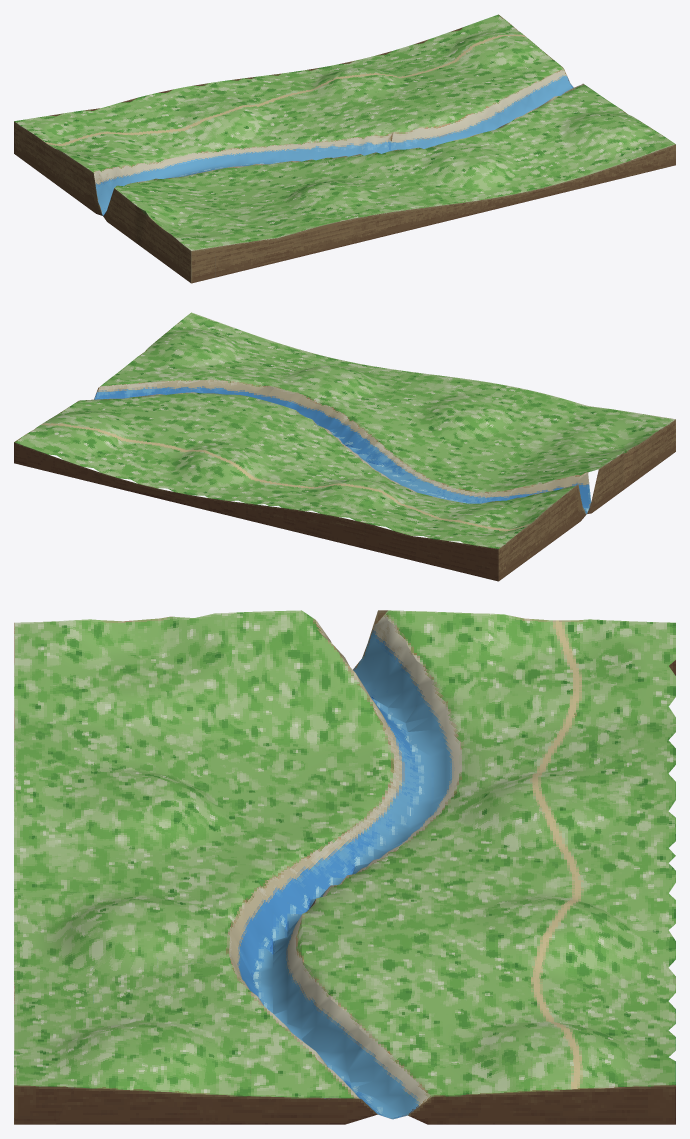
The model's file is diorama_own.glb.
The picture shows the model from 3 angles, top to bottom: view 1: azimuth 30°, elevation 25°; view 2: azimuth 150°, elevation 25°; view 3: azimuth 270°, elevation 25°; orthographic projection. The views are drawn at different scales.
Visible parts, largest first — view 1: mesh; view 2: mesh; view 3: mesh.
Part boxes in pixels (x1,y1,x2,y2): mesh: (14,14,675,283); mesh: (14,312,675,581); mesh: (14,610,675,1124).
Bounding box in the file's own units: 1.43 × 0.11 × 0.9036.
1 material, 1 textured.
